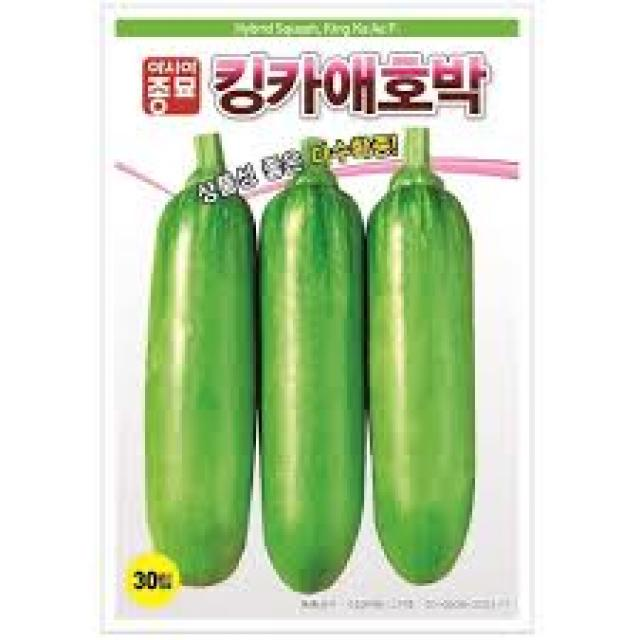zucchini: (145, 134, 259, 587), (370, 128, 478, 585), (262, 139, 367, 593)
